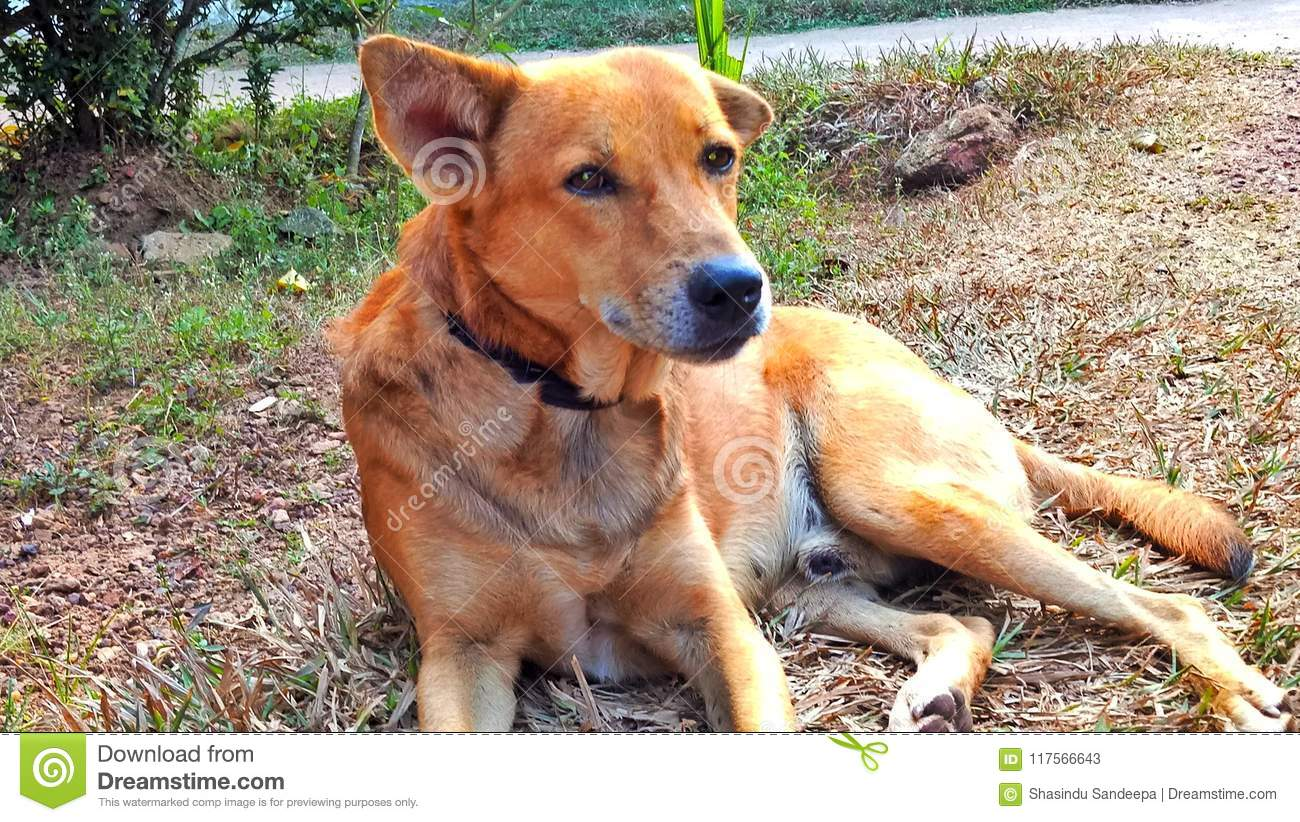Dog: (312, 16, 1300, 726)
